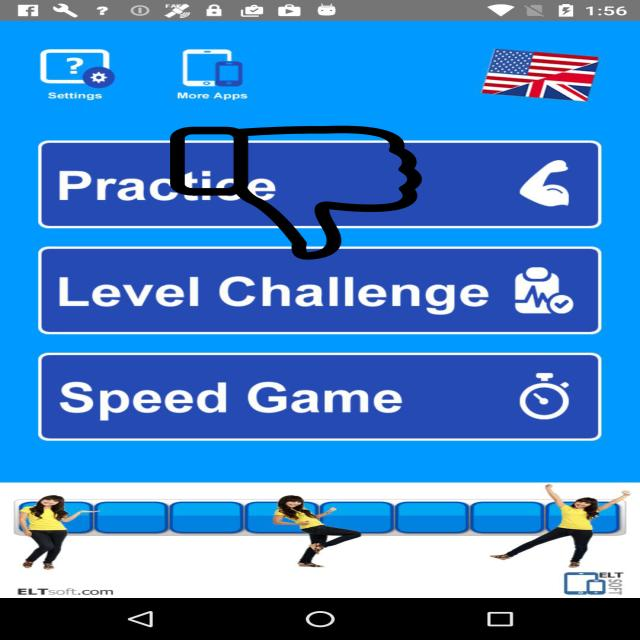obstruction: (167, 126, 426, 260)
